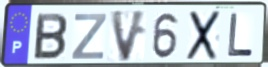6: (152, 12, 180, 61)
B: (31, 12, 69, 62)
L: (226, 12, 255, 59)
V: (108, 9, 149, 65)
X: (185, 9, 223, 62)
Z: (69, 12, 108, 61)
